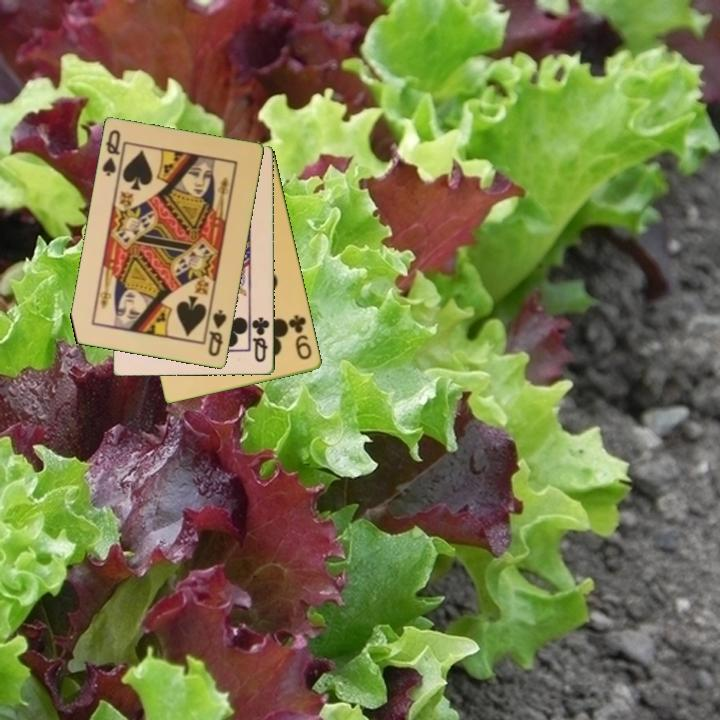9c: (286, 311, 315, 363)
Qc: (249, 314, 272, 365)
Qs: (99, 127, 128, 182), (205, 306, 230, 360)
